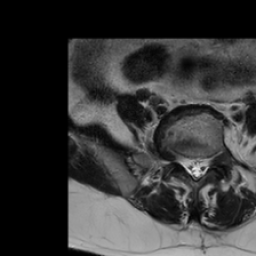CCS_normal: (192, 148, 200, 183)
LFS_normal: (208, 144, 217, 164)
LLS_normal: (200, 151, 209, 175)
RFS_normal: (173, 147, 183, 171)
RLS_normal: (183, 150, 192, 180)
